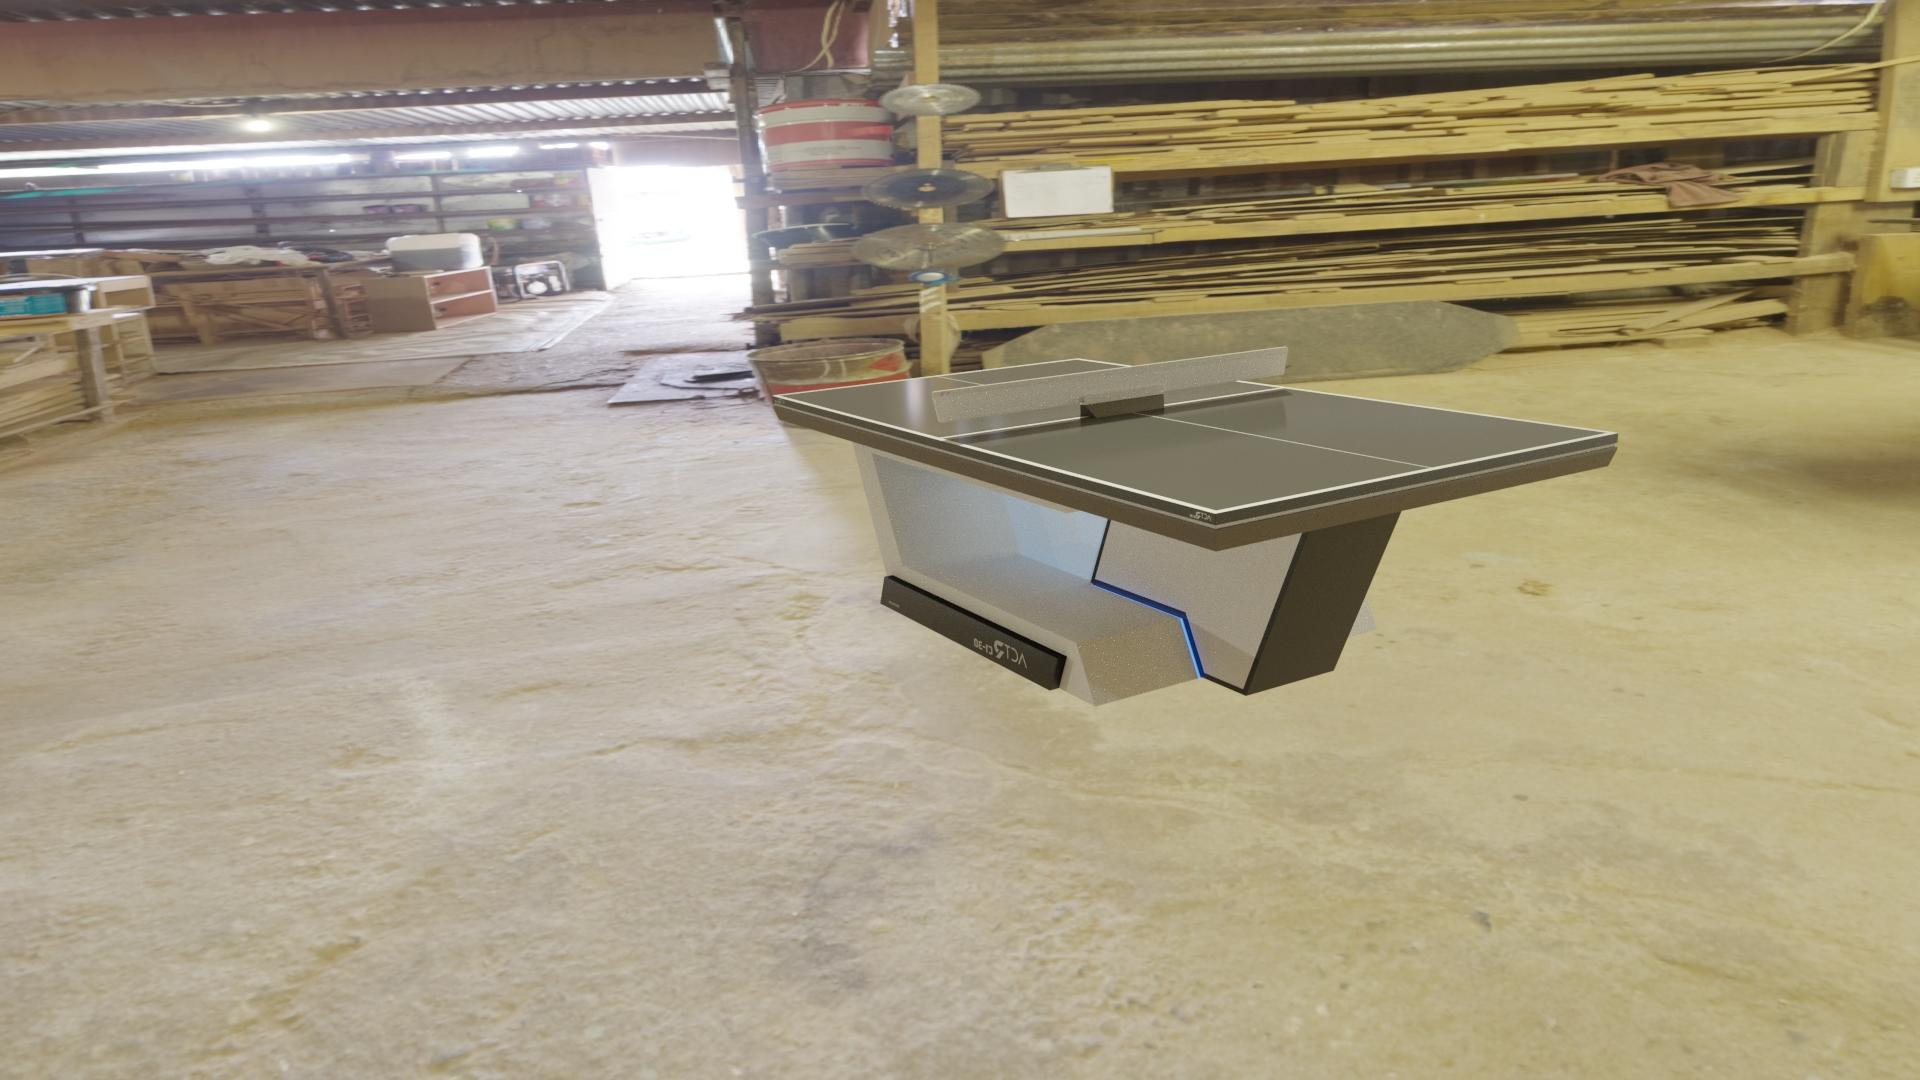table: (778, 359, 1609, 510)
